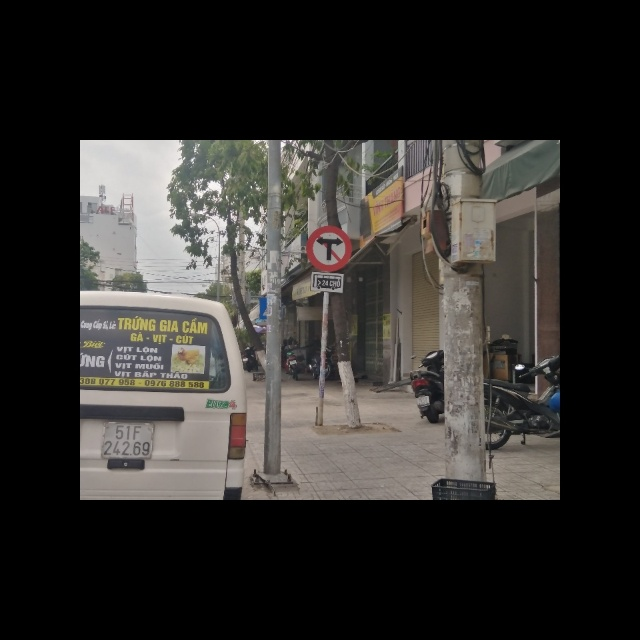Cấm rẽ trái và rẽ phải: (307, 226, 353, 272)
